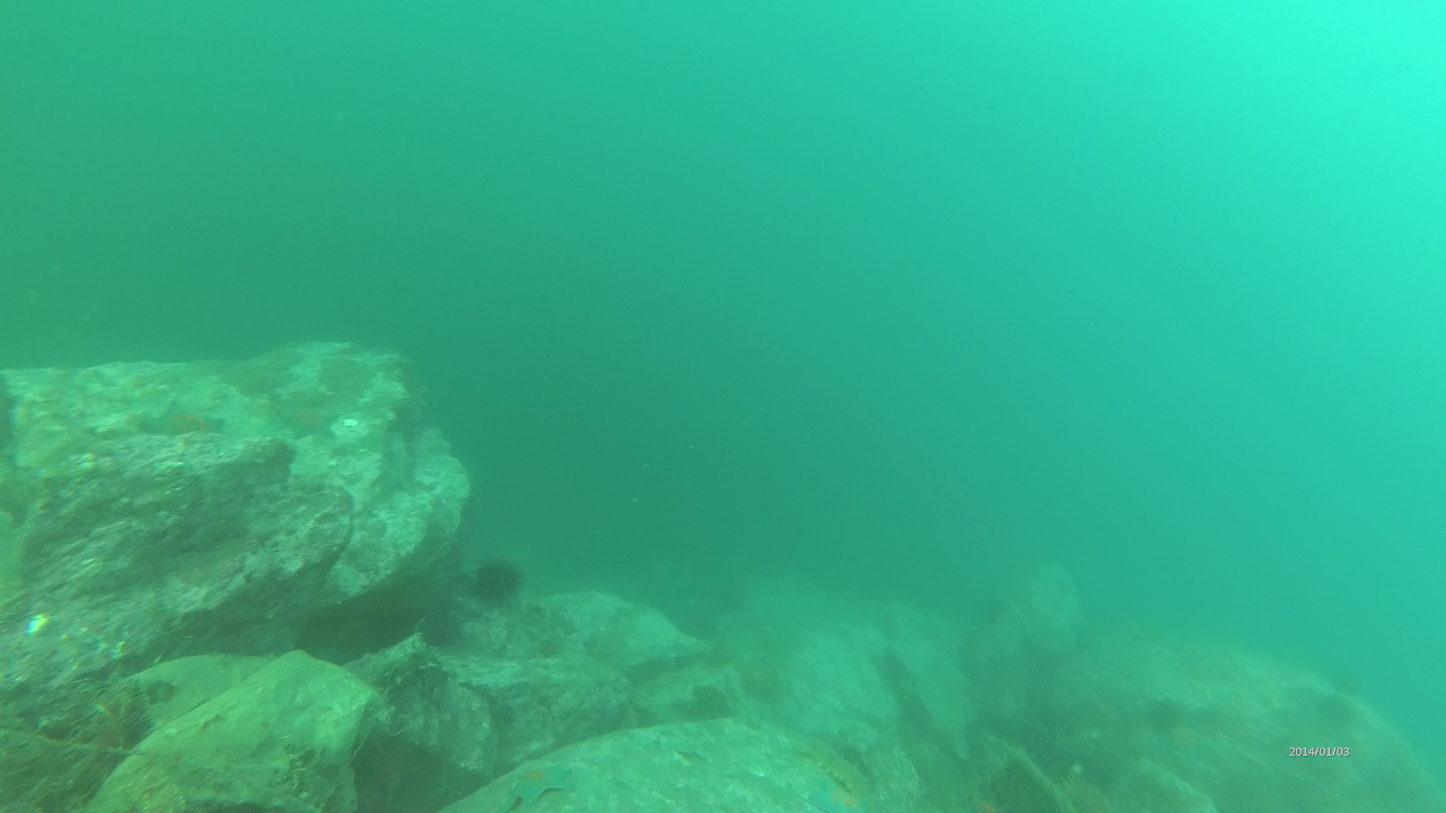echinus: (796, 729, 872, 796)
holothurian: (137, 395, 227, 450), (495, 763, 571, 806), (805, 784, 873, 813)
starfish: (470, 558, 523, 608), (1146, 696, 1190, 737)
